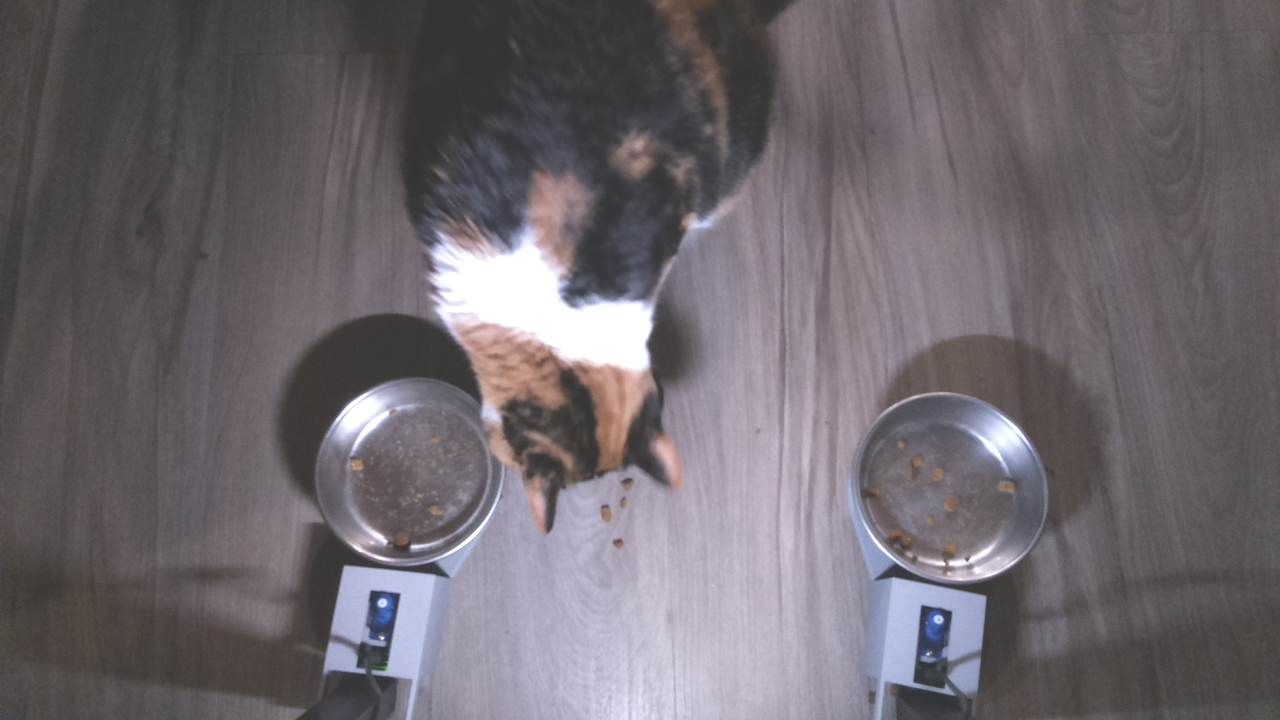bella: (466, 263, 685, 541)
open_bowl: (309, 372, 509, 578), (852, 386, 1052, 589)
